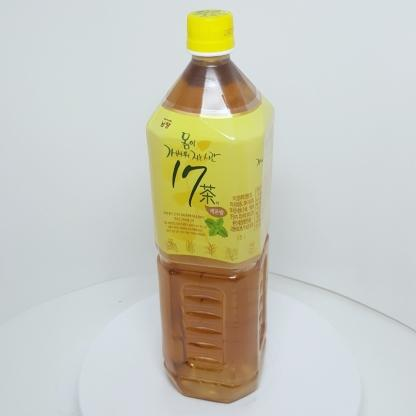--17----1-5L: (146, 10, 275, 403)
